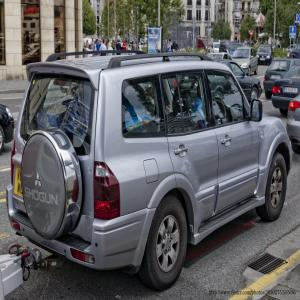Vehicle-registration-plate: (15, 167, 24, 197), (282, 86, 298, 93), (271, 75, 282, 82), (260, 58, 266, 62)
